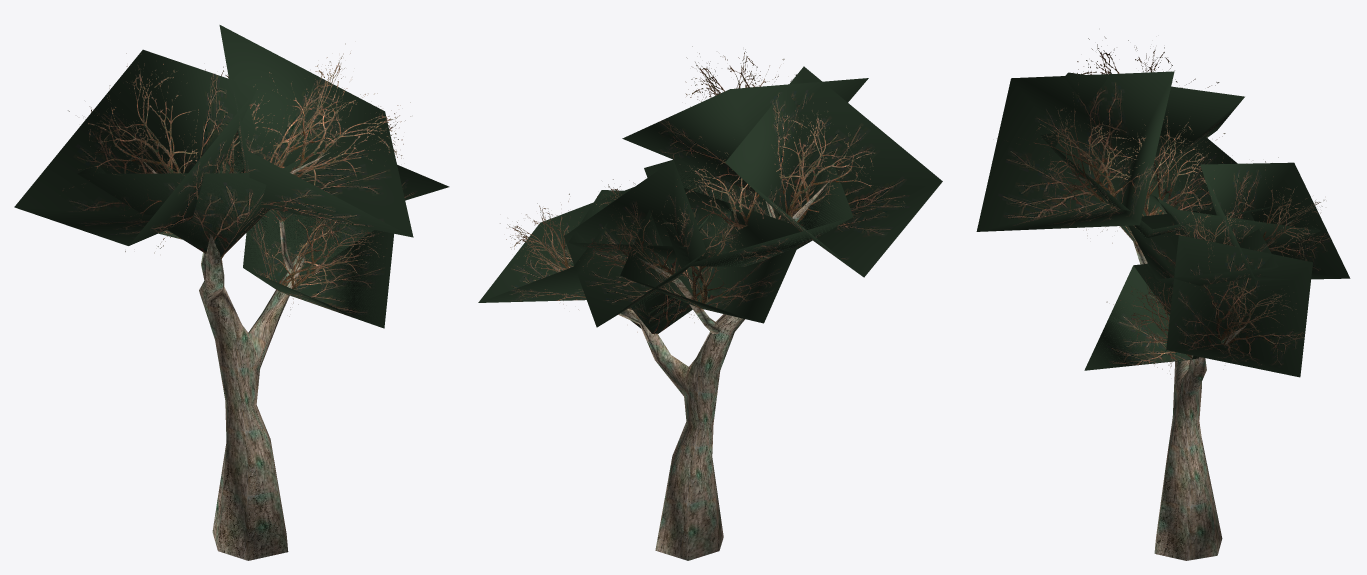
Rendered from decd_dogwoodtreebranches_l0.fbx.
3 views of the same model, side by side, from view 1: azimuth 30°, elevation 25°; view 2: azimuth 150°, elevation 25°; view 3: azimuth 270°, elevation 25° (orthographic). The views are drawn at different scales.
Visible parts, largest first — view 1: mesh_node; view 2: mesh_node; view 3: mesh_node.
Part boxes in pixels (left/top/right/bottom): mesh_node: left=14, top=25, right=449, bottom=560; mesh_node: left=478, top=46, right=942, bottom=560; mesh_node: left=976, top=36, right=1350, bottom=560.
Size of the model in its own units: 13.08 by 15.41 by 10.86.
